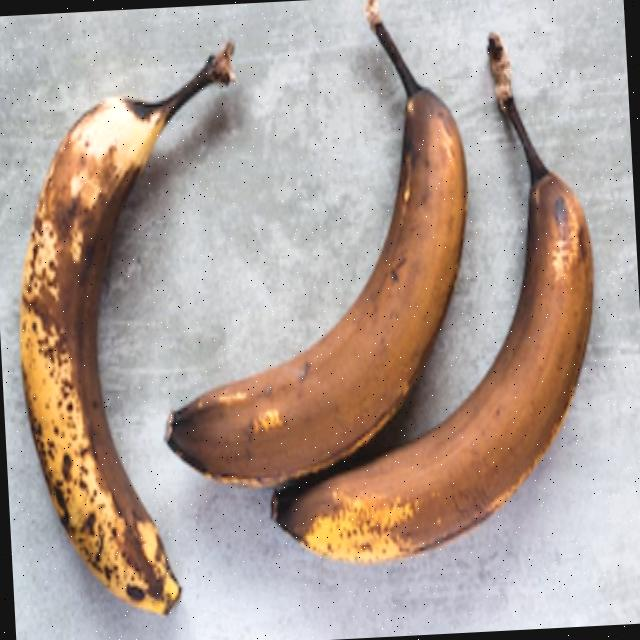rotten banana: (127, 1, 640, 601), (7, 7, 209, 640)
